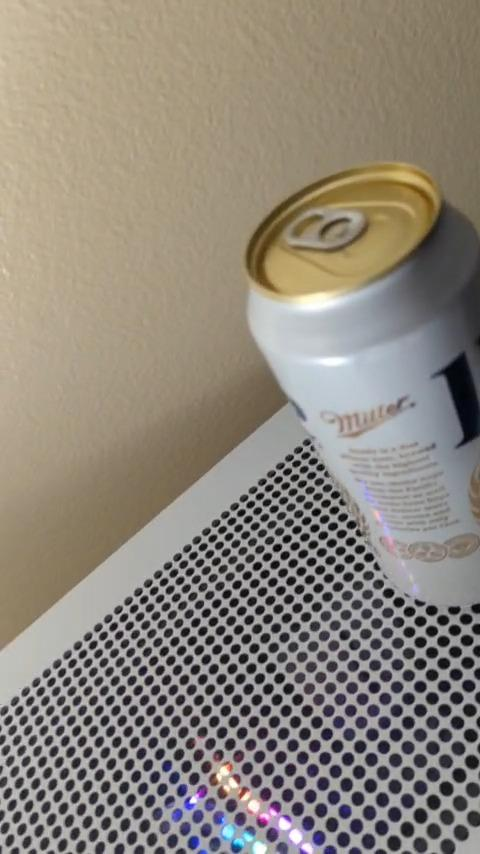metal: (247, 163, 479, 604)
